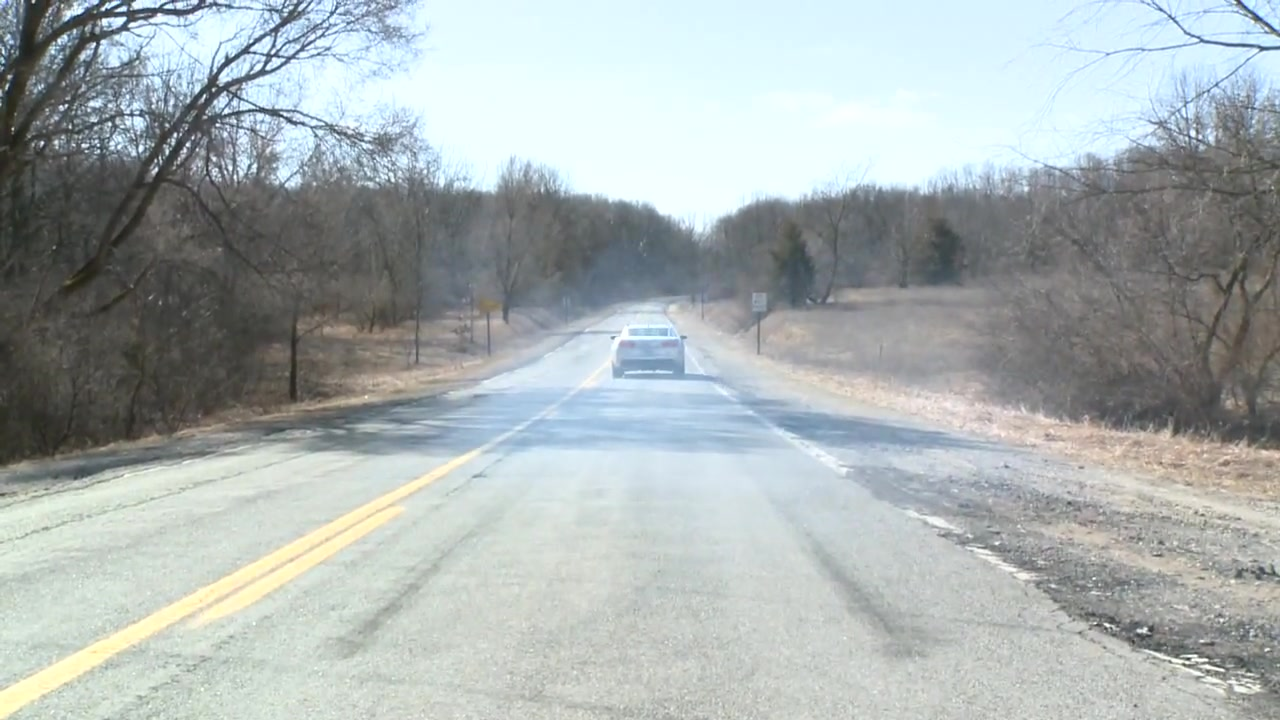car: (604, 323, 694, 383)
